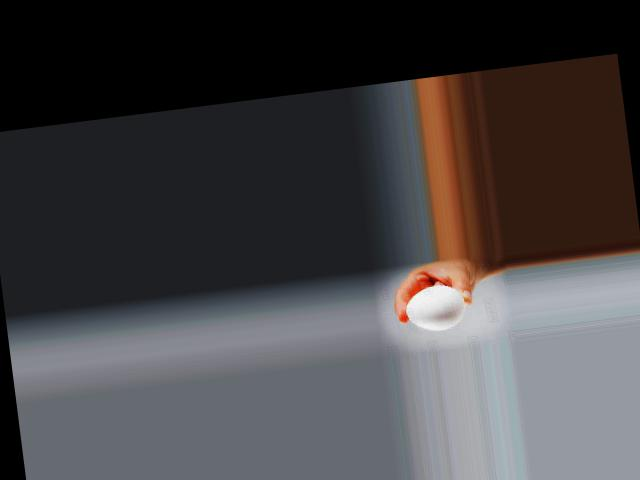egg: (403, 282, 466, 333)
